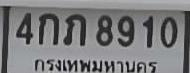0: (160, 16, 177, 47)
1: (142, 15, 152, 47)
4: (15, 11, 32, 44)
8: (95, 14, 112, 45)
9: (117, 14, 133, 46)
A01: (38, 12, 58, 44)
A32: (62, 13, 86, 45)
BKK: (33, 55, 159, 73)
